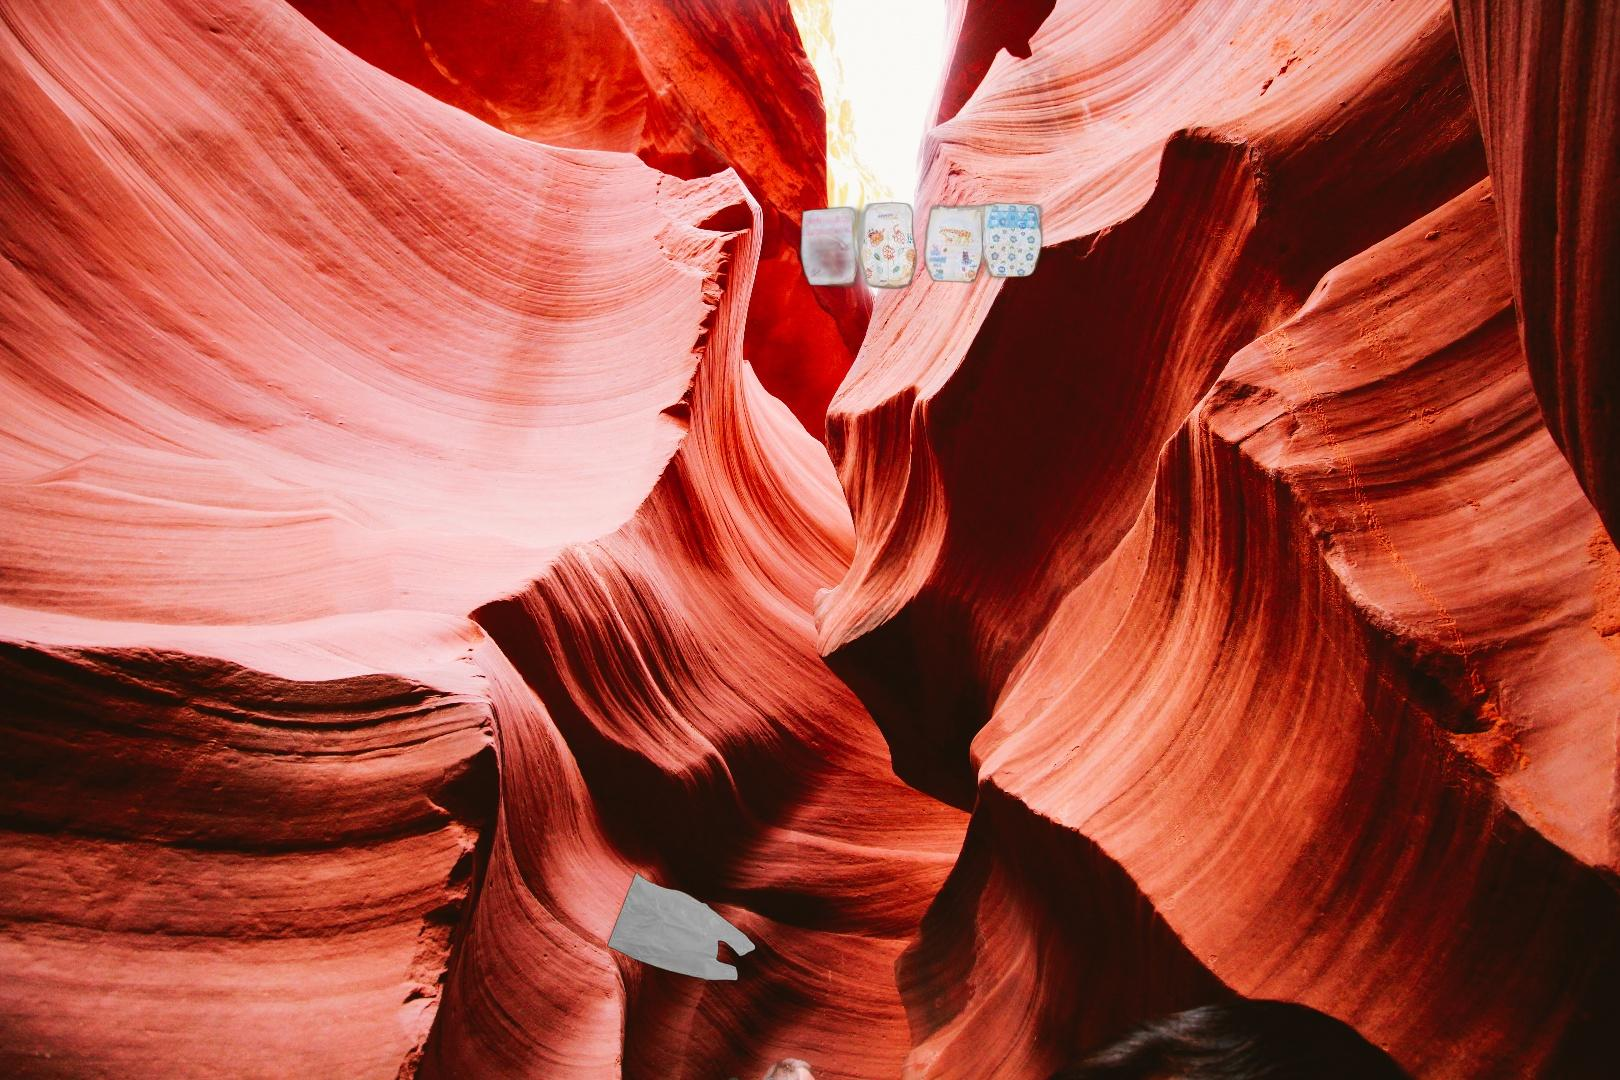plastic-bag: (605, 871, 759, 984)
trash: (787, 196, 1063, 378)
